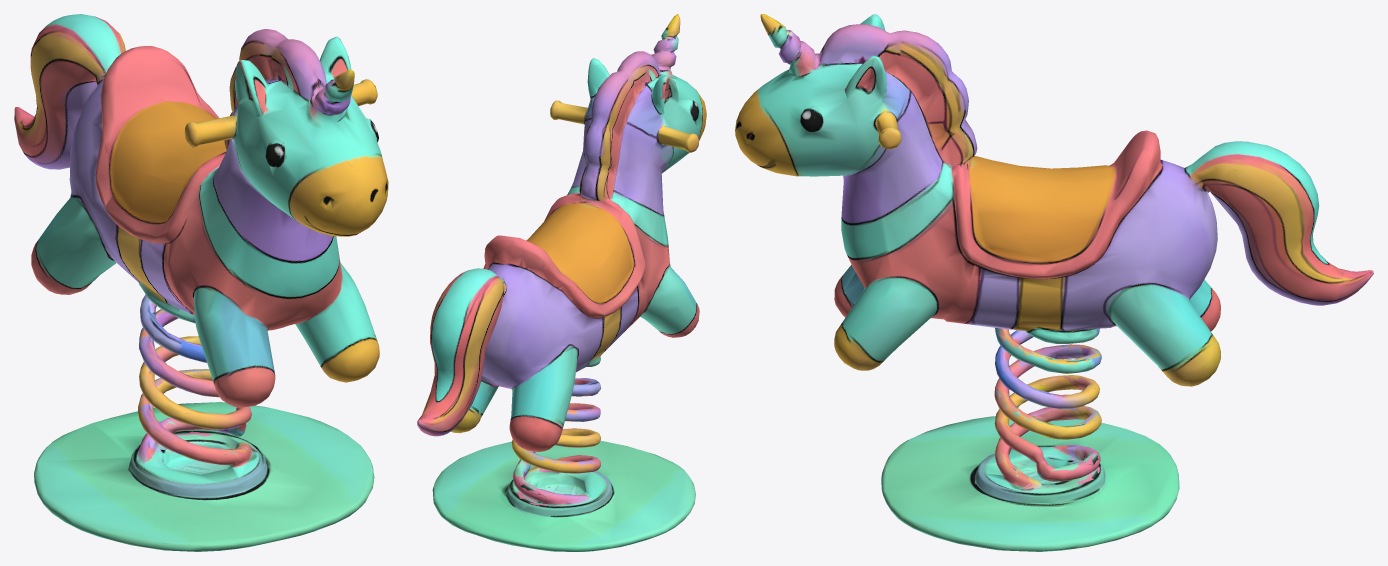
Rendered from static.glb.
3 renders of one model, left to right at view 1: azimuth 30°, elevation 25°; view 2: azimuth 150°, elevation 25°; view 3: azimuth 270°, elevation 25°, orthographic. The views are drawn at different scales.
Parts seen in each view (by area): view 1: Mesh_0; view 2: Mesh_0; view 3: Mesh_0.
Part boxes in pixels (box(x1,y1,x2,y2)): Mesh_0: box(14, 14, 388, 551); Mesh_0: box(417, 14, 706, 551); Mesh_0: box(735, 14, 1373, 551).
Size of the model in its own units: 0.9286 by 1.55 by 1.9.
1 material, 1 textured.
